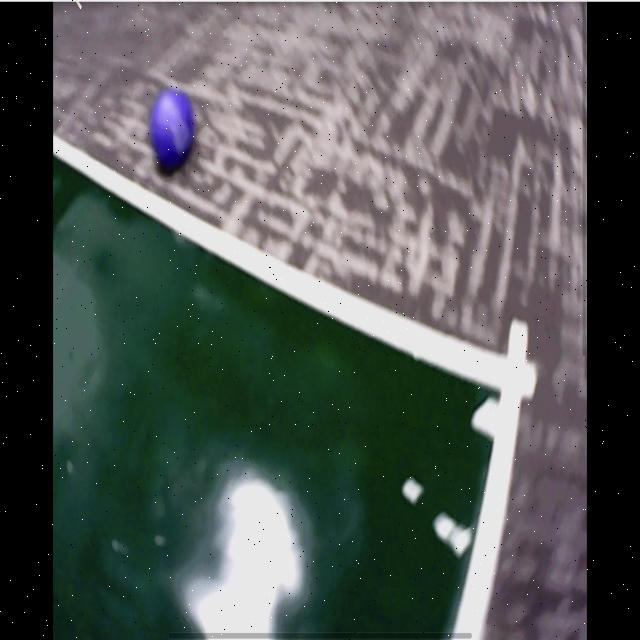ball: (152, 88, 192, 164)
